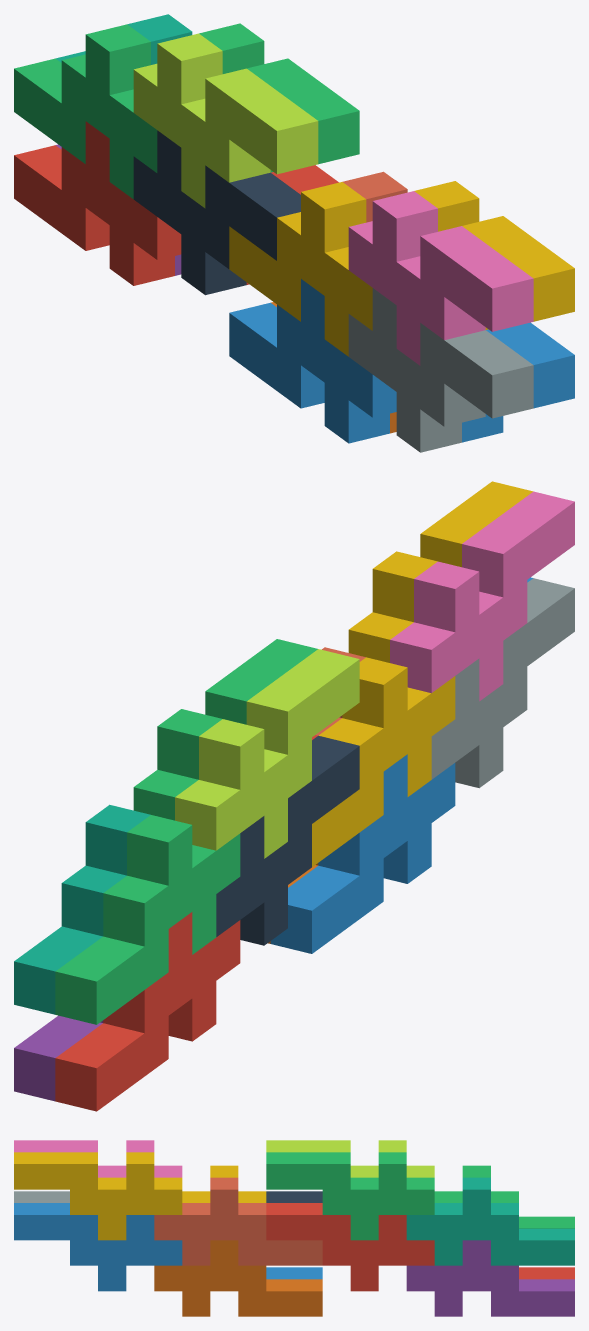
File: tiling.obj
3 views of the same model, one above another, from view 1: azimuth 30°, elevation 25°; view 2: azimuth 150°, elevation 25°; view 3: azimuth 270°, elevation 25° (orthographic). The views are drawn at different scales.
Visible parts, largest first — view 1: copy_2_domain_3, copy_2_domain_4, copy_2_domain_2, copy_1_domain_3, copy_1_domain_1, copy_1_domain_2, copy_1_domain_4, copy_2_domain_1, copy_2_domain_7, copy_2_domain_8, copy_2_domain_6, copy_1_domain_7 (+2 smaller); view 2: copy_2_domain_4, copy_2_domain_3, copy_1_domain_3, copy_1_domain_1, copy_1_domain_2, copy_1_domain_4, copy_2_domain_2, copy_2_domain_1, copy_1_domain_7, copy_2_domain_8, copy_2_domain_7, copy_1_domain_5; view 3: copy_2_domain_7, copy_2_domain_8, copy_1_domain_7, copy_1_domain_8, copy_1_domain_6, copy_1_domain_5, copy_2_domain_5, copy_2_domain_6, copy_2_domain_3, copy_2_domain_4, copy_1_domain_3, copy_1_domain_4 (+4 smaller).
Boxes of the visible parts, x1,y1,x2,y2 form: copy_2_domain_3: (133,33,318,208); copy_2_domain_4: (348,191,533,365); copy_2_domain_2: (348,288,533,452); copy_1_domain_3: (14,24,157,198); copy_1_domain_1: (14,121,181,285); copy_1_domain_2: (229,279,396,443); copy_1_domain_4: (229,182,372,356); copy_2_domain_1: (133,130,300,295); copy_2_domain_7: (199,23,359,172); copy_2_domain_8: (414,181,574,329); copy_2_domain_6: (462,322,574,442); copy_1_domain_7: (55,14,192,64); copy_2_domain_4: (390,491,574,701); copy_2_domain_3: (175,649,359,858); copy_1_domain_3: (55,815,240,1024); copy_1_domain_1: (55,912,240,1111); copy_1_domain_2: (270,754,455,953); copy_1_domain_4: (312,657,455,866); copy_2_domain_2: (431,578,574,788); copy_2_domain_1: (216,735,359,945); copy_1_domain_7: (14,804,150,1014); copy_2_domain_8: (348,481,533,662); copy_2_domain_7: (133,639,317,820); copy_1_domain_5: (14,1015,103,1101); copy_2_domain_7: (266,1152,434,1240); copy_2_domain_8: (14,1152,182,1240); copy_1_domain_7: (406,1177,574,1265); copy_1_domain_8: (154,1177,322,1265); copy_1_domain_6: (154,1240,322,1316); copy_1_domain_5: (406,1240,574,1316); copy_2_domain_5: (266,1203,434,1291); copy_2_domain_6: (14,1203,182,1291); copy_2_domain_3: (266,1140,434,1177); copy_2_domain_4: (14,1140,182,1177); copy_1_domain_3: (434,1165,574,1228); copy_1_domain_4: (182,1165,266,1202).
Size of the model in its own units: 2 by 6 by 20.
